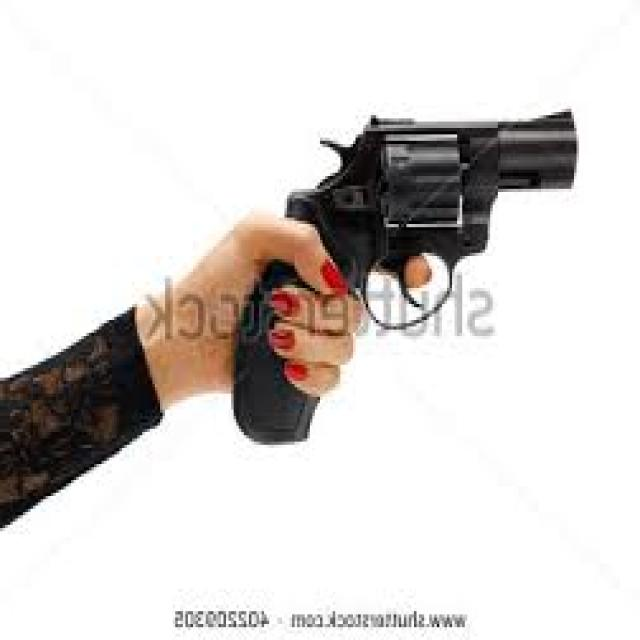pistol: (231, 99, 589, 451)
